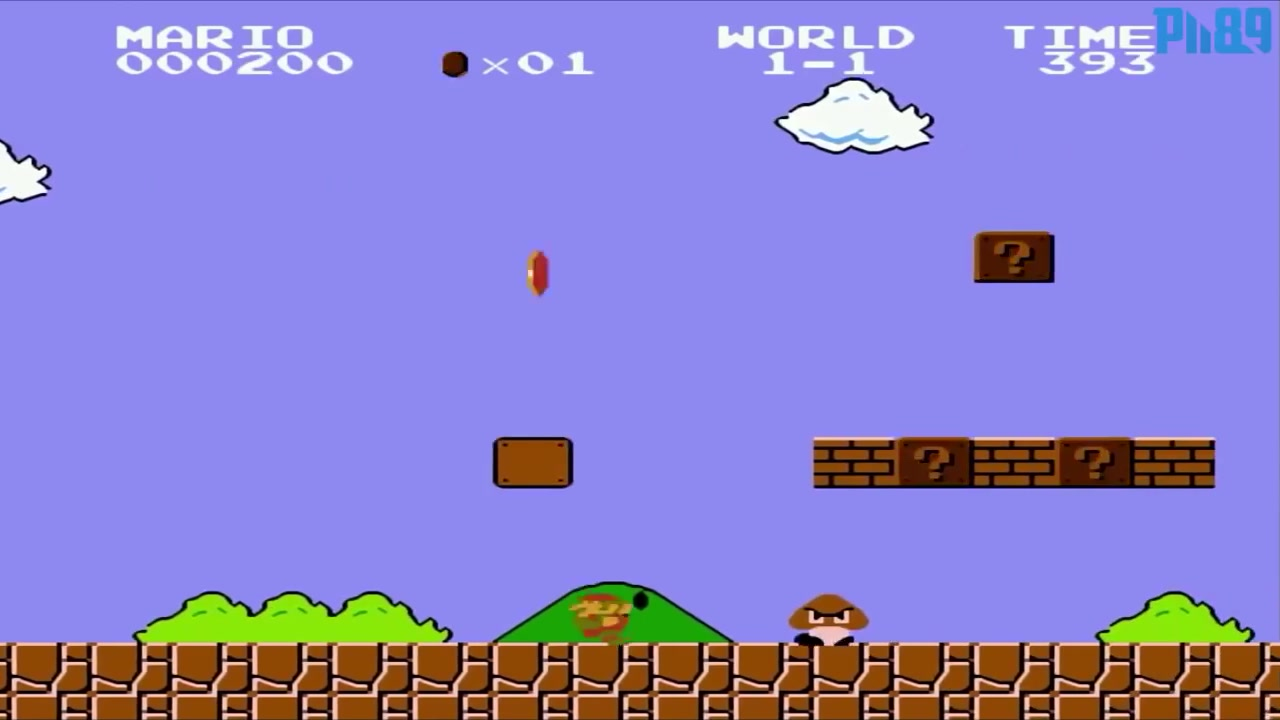mario: (564, 585, 642, 643)
